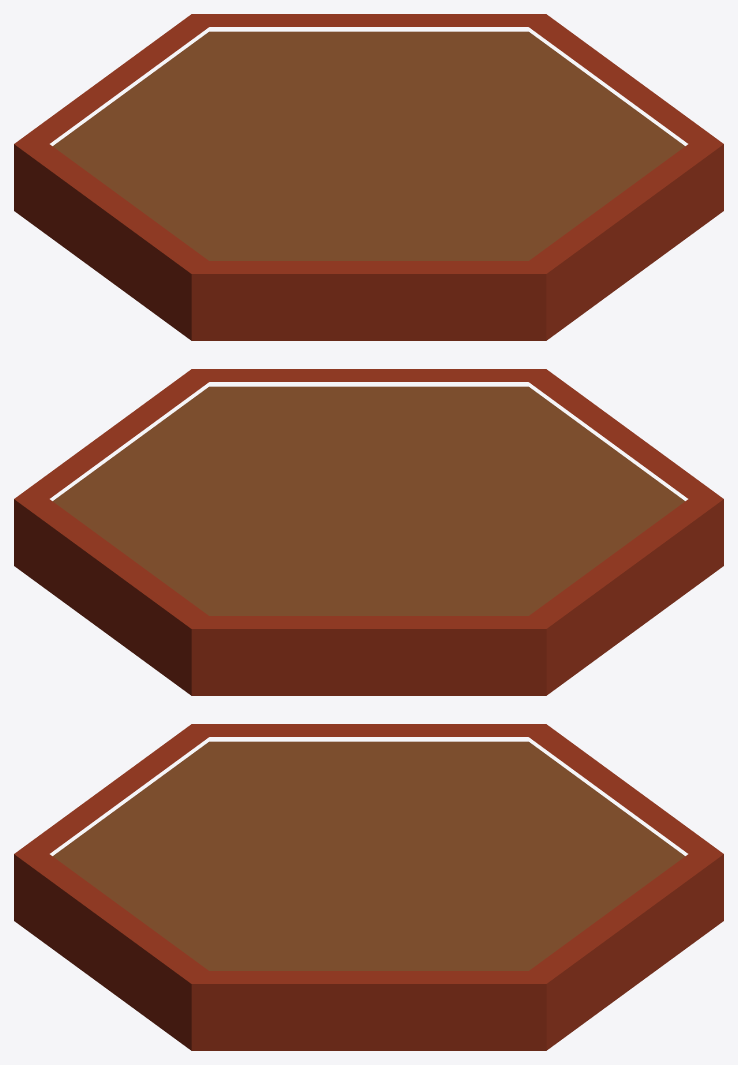
Rendered from SM_HexTile_Away.glb.
3 renders of one model, top to bottom at view 1: azimuth 30°, elevation 25°; view 2: azimuth 150°, elevation 25°; view 3: azimuth 270°, elevation 25°, orthographic.
Visible parts, largest first — view 1: SM_HexTile_Away; view 2: SM_HexTile_Away; view 3: SM_HexTile_Away.
Part boxes in pixels (<box>): SM_HexTile_Away: <box>14,14,723,340</box>; SM_HexTile_Away: <box>14,369,723,695</box>; SM_HexTile_Away: <box>14,724,723,1050</box>.
Bounding box in the file's own units: 1 × 0.12 × 1.15.
